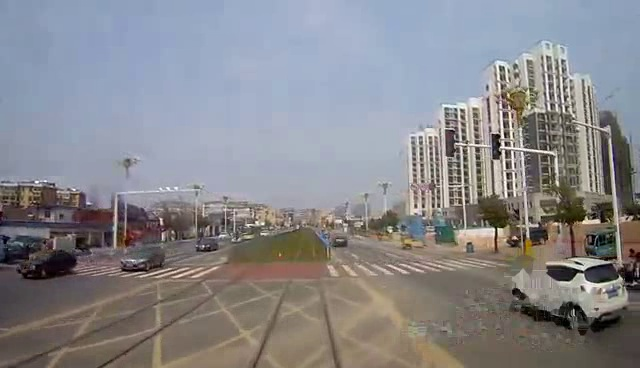car: (509, 254, 624, 328), (19, 244, 86, 285), (113, 240, 170, 273)
